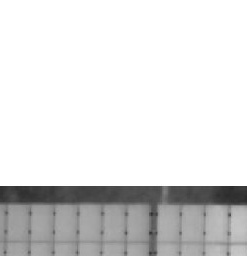solar: (3, 201, 32, 243), (29, 201, 58, 243), (51, 201, 80, 243), (75, 201, 104, 243), (100, 201, 129, 243), (124, 201, 153, 243), (154, 201, 183, 243), (178, 201, 207, 243), (202, 203, 231, 245)
